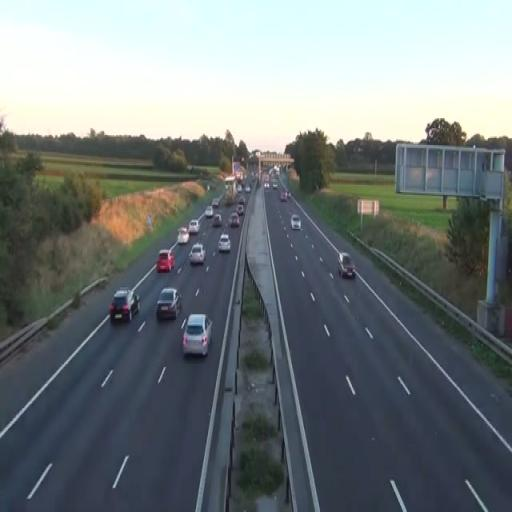Car: (181, 314, 213, 359), (110, 288, 140, 324), (156, 286, 182, 320), (338, 252, 356, 278), (156, 249, 175, 273), (190, 243, 206, 266), (218, 233, 231, 253), (178, 226, 190, 245), (188, 218, 200, 234), (229, 212, 240, 227), (291, 214, 301, 230), (212, 211, 222, 227)
Truck: (224, 176, 237, 205)
